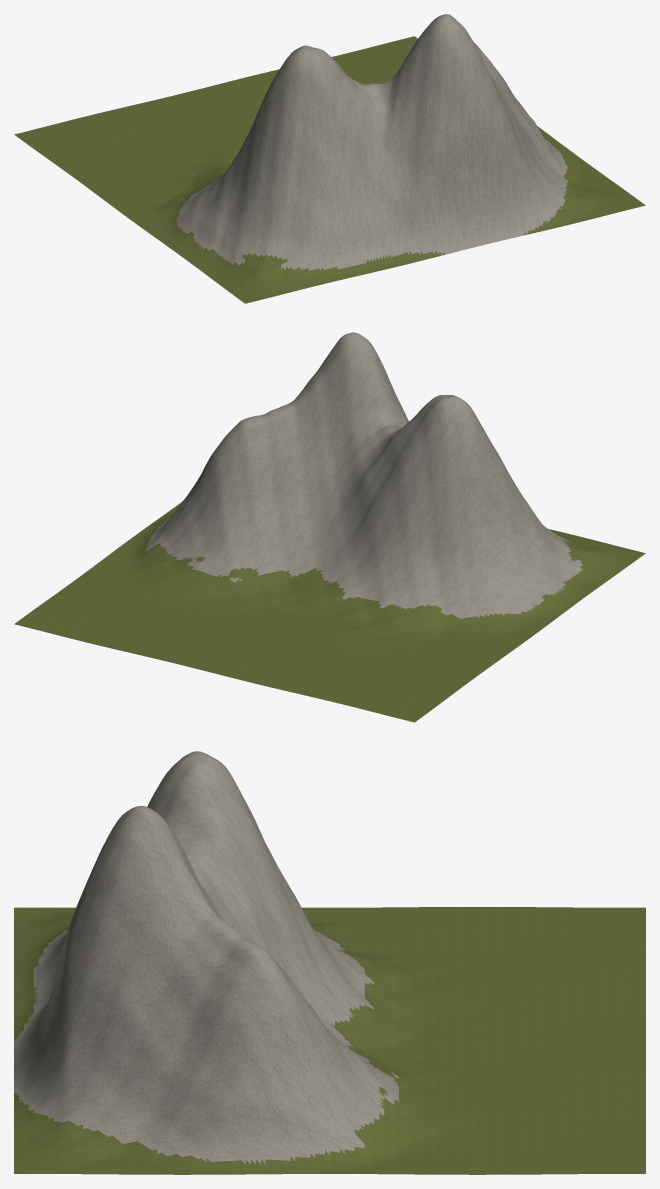
Rendered from terrain_rocky.glb.
3 renders of one model, top to bottom at view 1: azimuth 30°, elevation 25°; view 2: azimuth 150°, elevation 25°; view 3: azimuth 270°, elevation 25°, orthographic. The views are drawn at different scales.
Visible parts, largest first — view 1: terrain_rocky; view 2: terrain_rocky; view 3: terrain_rocky.
Part boxes in pixels (x1=…): terrain_rocky: x1=14, y1=14, x2=645, y2=303; terrain_rocky: x1=14, y1=332, x2=645, y2=722; terrain_rocky: x1=14, y1=751, x2=645, y2=1174.
Size of the model in its own units: 192 by 88.8 by 192.
